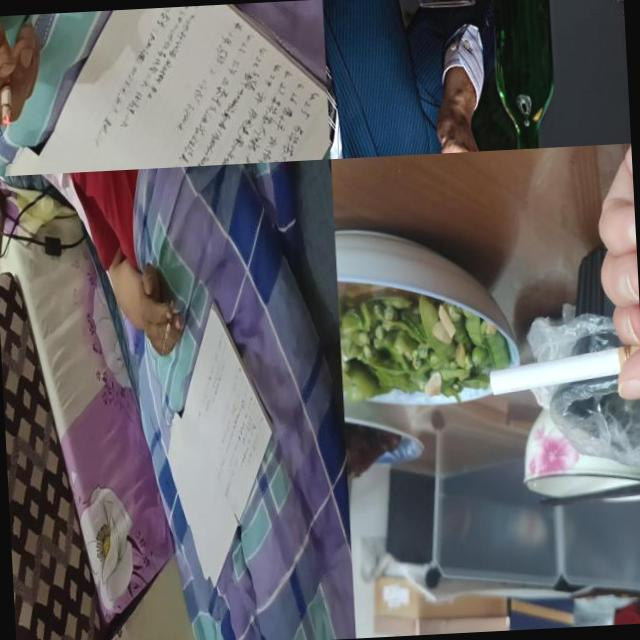cigarette: (487, 332, 640, 396), (160, 300, 178, 358), (0, 60, 14, 129)
